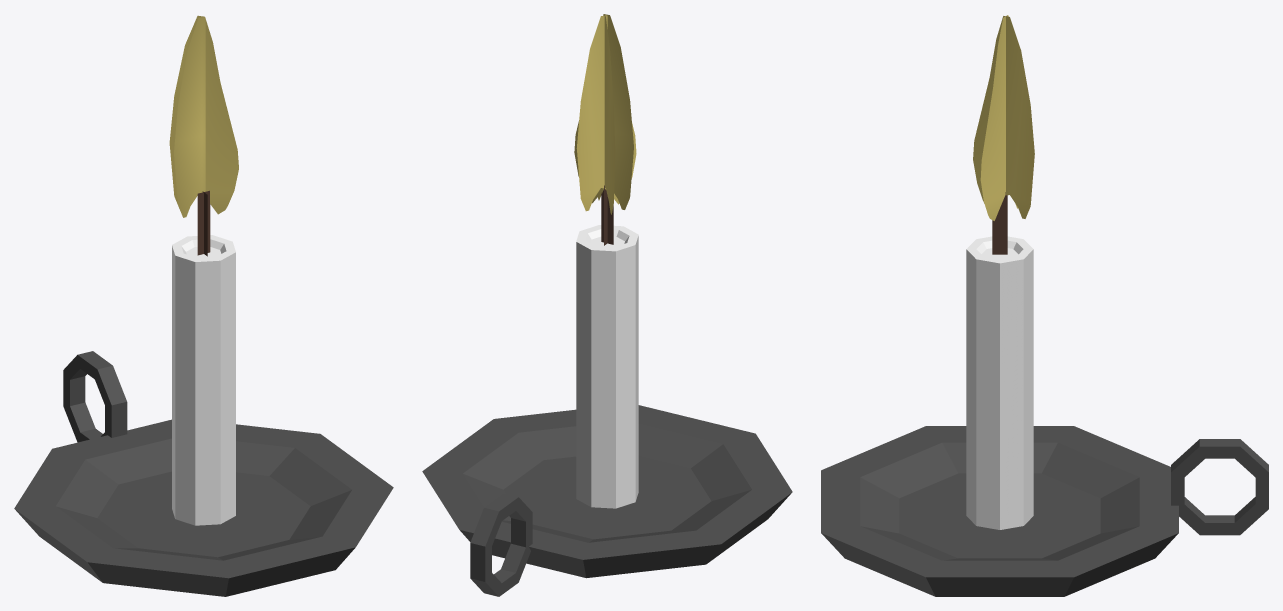
The model's file is candle_tinlit.obj.
3 views of the same model, side by side, from view 1: azimuth 30°, elevation 25°; view 2: azimuth 150°, elevation 25°; view 3: azimuth 270°, elevation 25° (orthographic). The views are drawn at different scales.
Parts seen in each view (by area): view 1: Candletin_lit; view 2: Candletin_lit; view 3: Candletin_lit.
Boxes of the visible parts, x1,y1,x2,y2 form: Candletin_lit: (14,15,393,596); Candletin_lit: (422,14,792,596); Candletin_lit: (821,15,1268,596).
Bounding box in the file's own units: 0.3453 × 0.5485 × 0.432.
